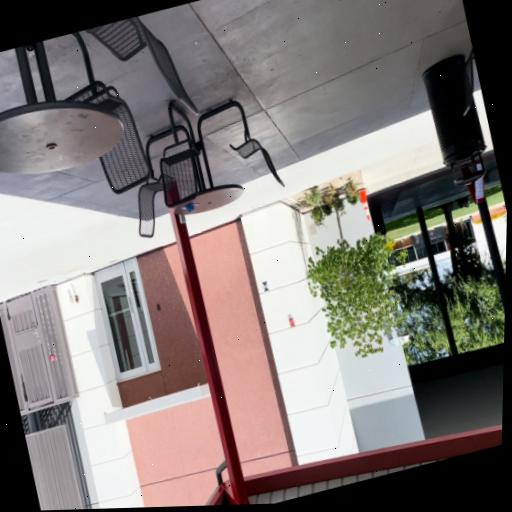target9: (261, 280, 270, 292)
